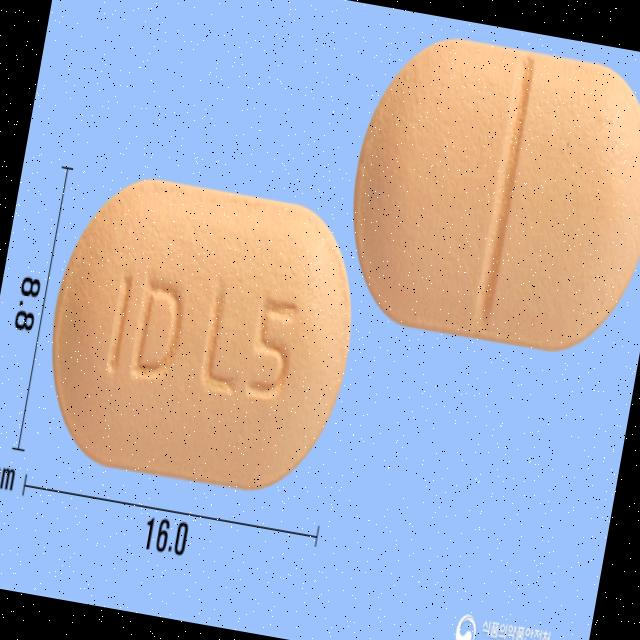Levofexin: (29, 164, 373, 502), (330, 21, 640, 362)
